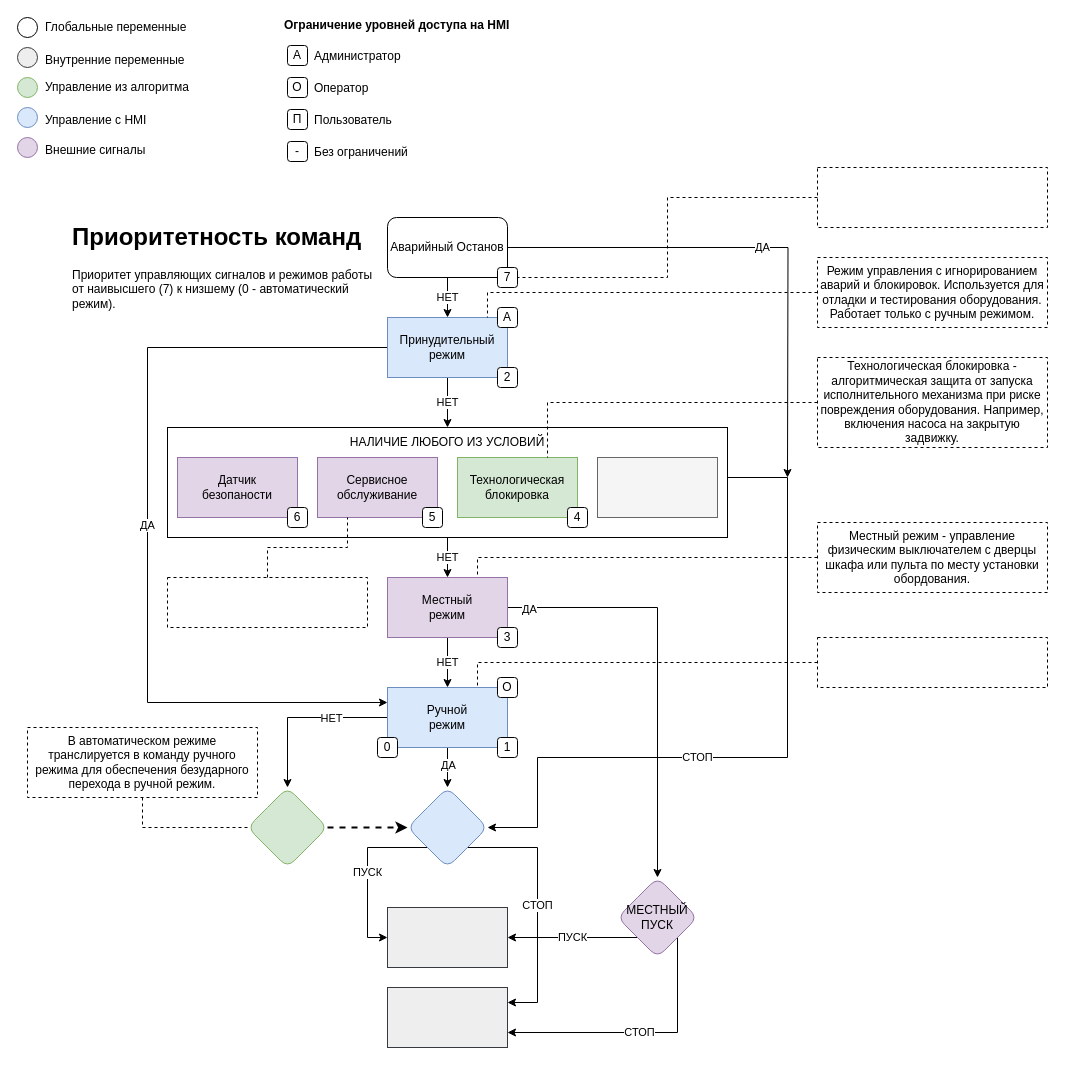
This 1065x1065 diagram has some shape labels left out. Here are the shapes that lost their labels. From the top down, the centre of each, then its label:
[932,197]: Цифровой код режима работы. Используется при построении иерархии команд в коде.
[657,487]: Неисправность оборудования
[267,602]: Сервисный выключатель по месту установки оборудования.
[932,662]: Ручной режим - управление по команде оператора с HMI.
[287,827]: АВТО ПУСК
[447,827]: РУЧНОЙ ПУСК
[447,937]: ЗАПУСК
[447,1017]: ОСТАНОВ
